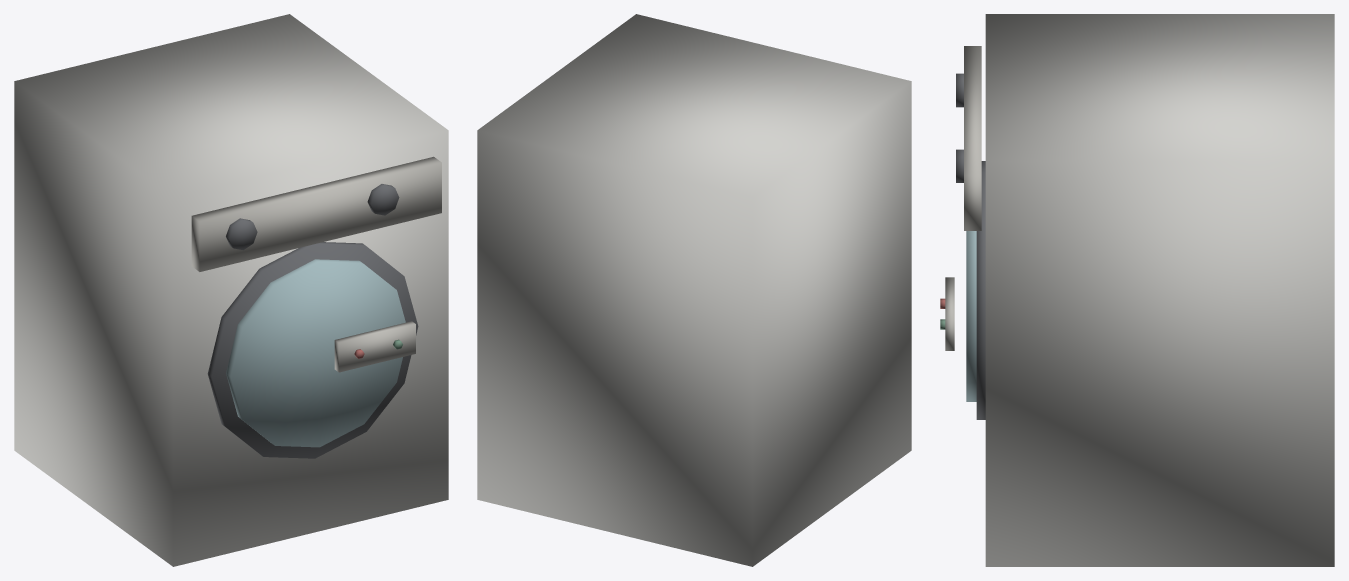
The model's file is domestic_washer__reinforced.glb.
The picture shows the model from 3 angles, left to right: view 1: azimuth 30°, elevation 25°; view 2: azimuth 150°, elevation 25°; view 3: azimuth 270°, elevation 25°; orthographic projection. The views are drawn at different scales.
Visible parts, largest first — view 1: world; view 2: world; view 3: world.
Part boxes in pixels (left/top/right/bottom): world: left=14, top=14, right=448, bottom=566; world: left=477, top=14, right=911, bottom=566; world: left=940, top=14, right=1334, bottom=566.
Size of the model in its own units: 0.7004 by 0.8976 by 0.7916.
